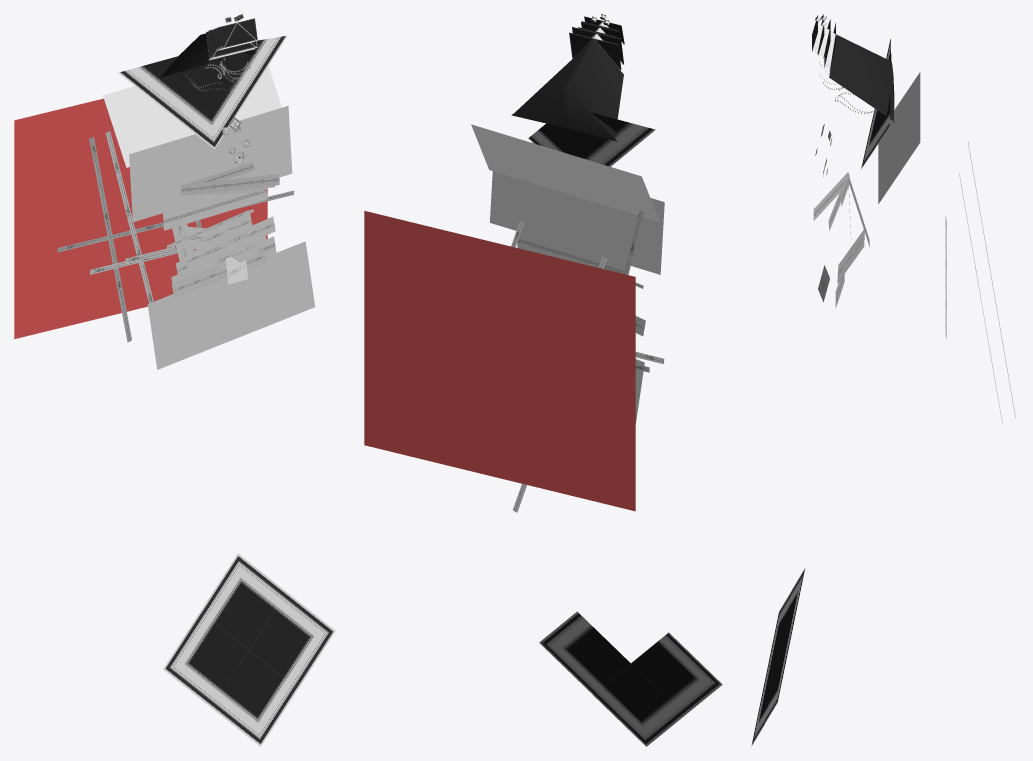
The model's file is fularino_6error.dae.
The picture shows the model from 3 angles, left to right: view 1: azimuth 30°, elevation 25°; view 2: azimuth 150°, elevation 25°; view 3: azimuth 270°, elevation 25°; orthographic projection. The views are drawn at different scales.
Parts seen in each view (by area): view 1: salmone, bianco.1, bianco, bordo_01.1 (×2), bordo_01 (×2), bordo_01.3 (×2), bianco.2, bordo_01.2, nero, topgrande2, cinturone; view 2: salmone, bianco, bianco.2, nero, bordo_01.1 (×2), bordo_01 (×2), bordo_01.3, topgrande2.5; view 3: nero, bianco.2, bordo_01.1 (×2), bordo_01.2, bordo_01.3, bordo_01.
Boxes of the visible parts, x1,y1,x2,y2 form: salmone: [14, 98, 267, 338]; bianco.1: [147, 241, 315, 369]; bianco: [129, 105, 292, 222]; bordo_01.1 (×2): [165, 59, 297, 746]; bordo_01 (×2): [118, 56, 248, 707]; bordo_01.3 (×2): [212, 35, 335, 688]; bianco.2: [103, 66, 281, 167]; bordo_01.2: [200, 553, 286, 649]; nero: [160, 33, 255, 77]; topgrande2: [220, 18, 257, 48]; cinturone: [223, 226, 246, 255]; salmone: [364, 211, 635, 511]; bianco: [489, 171, 664, 274]; bianco.2: [471, 124, 659, 221]; nero: [511, 39, 623, 141]; bordo_01.1 (×2): [528, 123, 684, 746]; bordo_01 (×2): [590, 112, 722, 715]; bordo_01.3: [539, 611, 630, 694]; topgrande2.5: [569, 32, 621, 70]; nero: [829, 34, 894, 122]; bianco.2: [878, 72, 920, 203]; bordo_01.1 (×2): [751, 108, 882, 746]; bordo_01.2: [778, 568, 805, 656]; bordo_01.3: [764, 636, 791, 723]; bordo_01: [765, 590, 791, 678].
Size of the model in its own units: 2212 by 5878 by 1939.
Materials: 22 (19 with a texture image).
